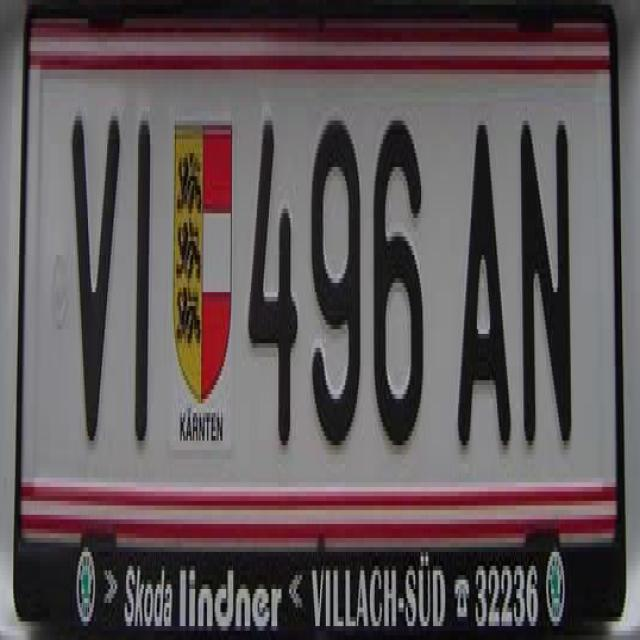Autre: (11, 4, 624, 635)
